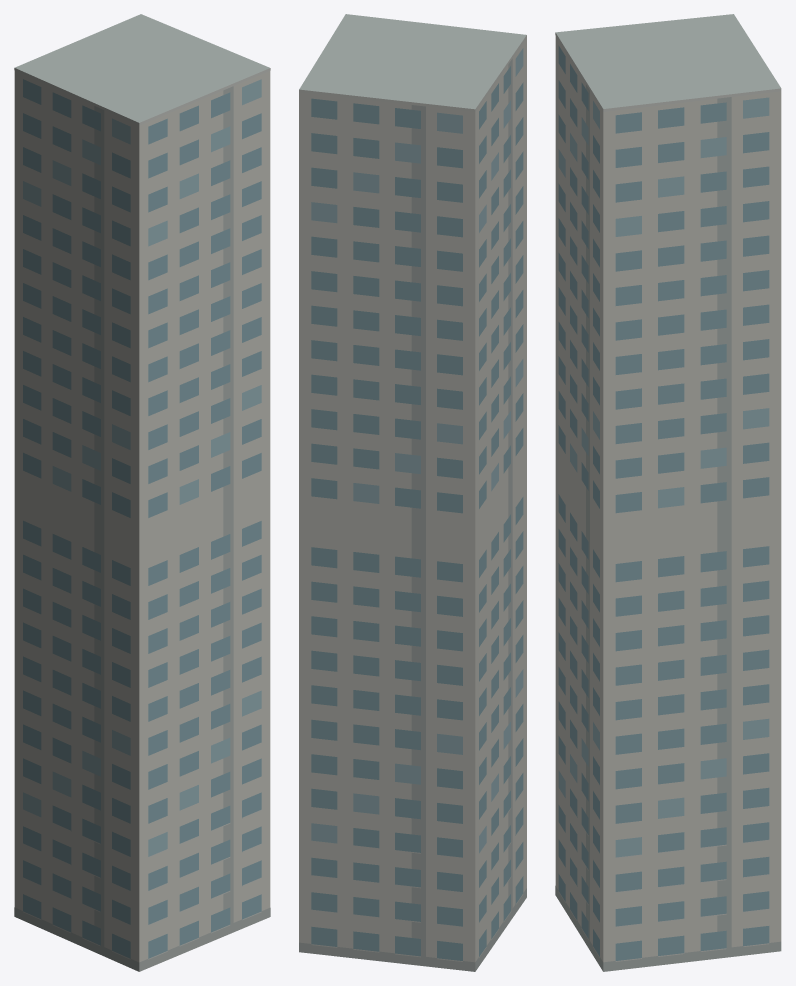
Rendered from survey-upis-32640349.glb.
3 views of the same model, side by side, from view 1: azimuth 30°, elevation 25°; view 2: azimuth 150°, elevation 25°; view 3: azimuth 270°, elevation 25° (orthographic).
Visible parts, largest first — view 1: survey-upis-32640349.tmp; view 2: survey-upis-32640349.tmp; view 3: survey-upis-32640349.tmp.
Part boxes in pixels (bbox=[...]): survey-upis-32640349.tmp: bbox=[14, 14, 270, 971]; survey-upis-32640349.tmp: bbox=[299, 14, 526, 971]; survey-upis-32640349.tmp: bbox=[555, 14, 781, 971].
Bounding box in the file's own units: 18.03 × 76.25 × 18.11.
